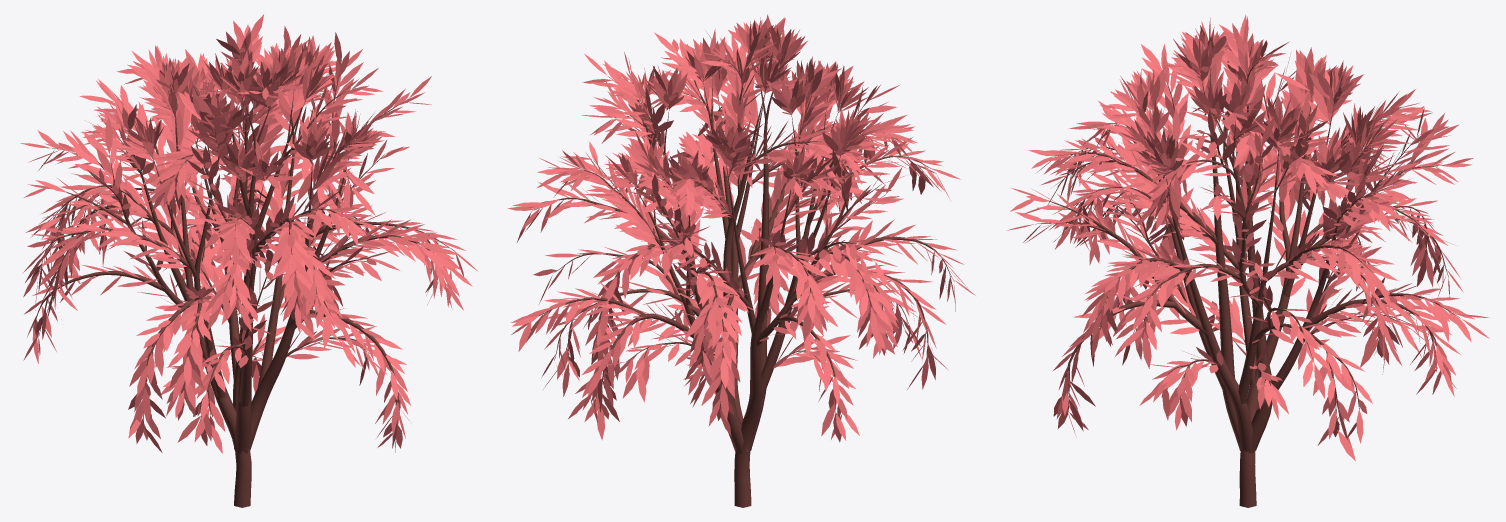
Rendered from Tree3.glb.
3 renders of one model, left to right at view 1: azimuth 30°, elevation 25°; view 2: azimuth 150°, elevation 25°; view 3: azimuth 270°, elevation 25°, orthographic.
Visible parts, largest first — view 1: leaves.001, tree.001; view 2: leaves.001, tree.001; view 3: leaves.001, tree.001.
Boxes of the visible parts, box(x1,y1,x2,y2) form: leaves.001: box(20, 14, 478, 453); tree.001: box(32, 61, 454, 507); leaves.001: box(507, 14, 975, 442); tree.001: box(532, 54, 954, 507); leaves.001: box(1007, 14, 1489, 461); tree.001: box(1035, 57, 1460, 507).
Bounding box in the file's own units: 4.45 × 5.54 × 5.07.
